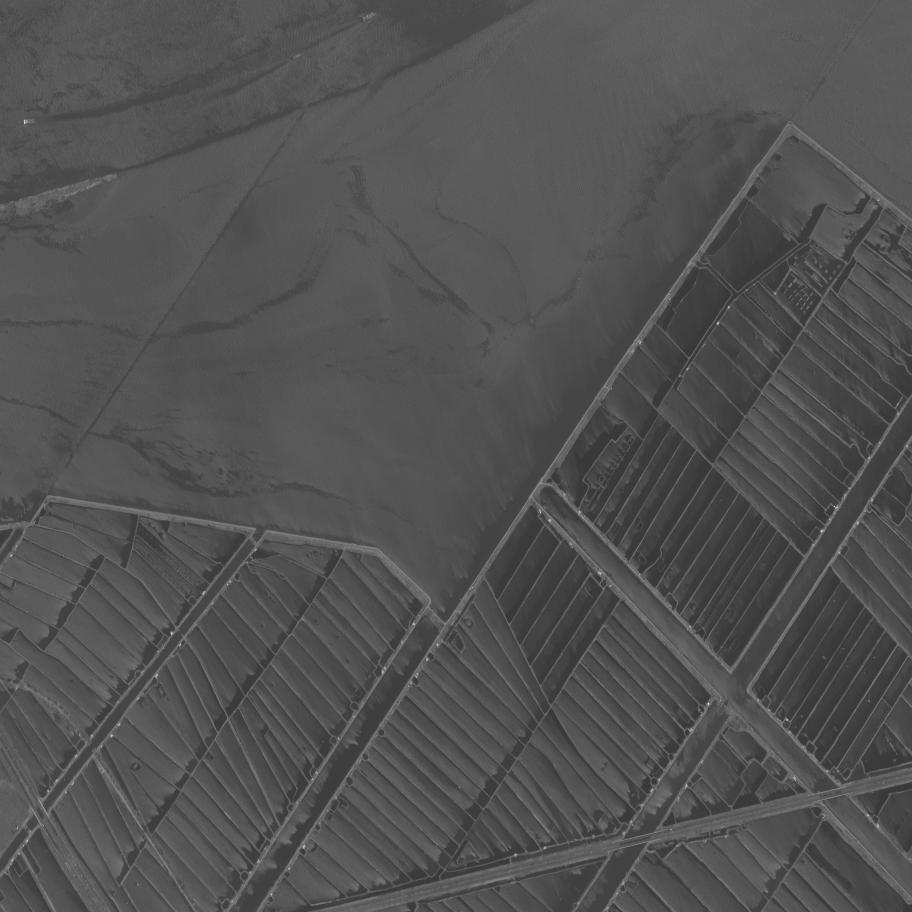ship: (359, 10, 378, 24), (289, 50, 305, 62), (22, 117, 38, 125)
